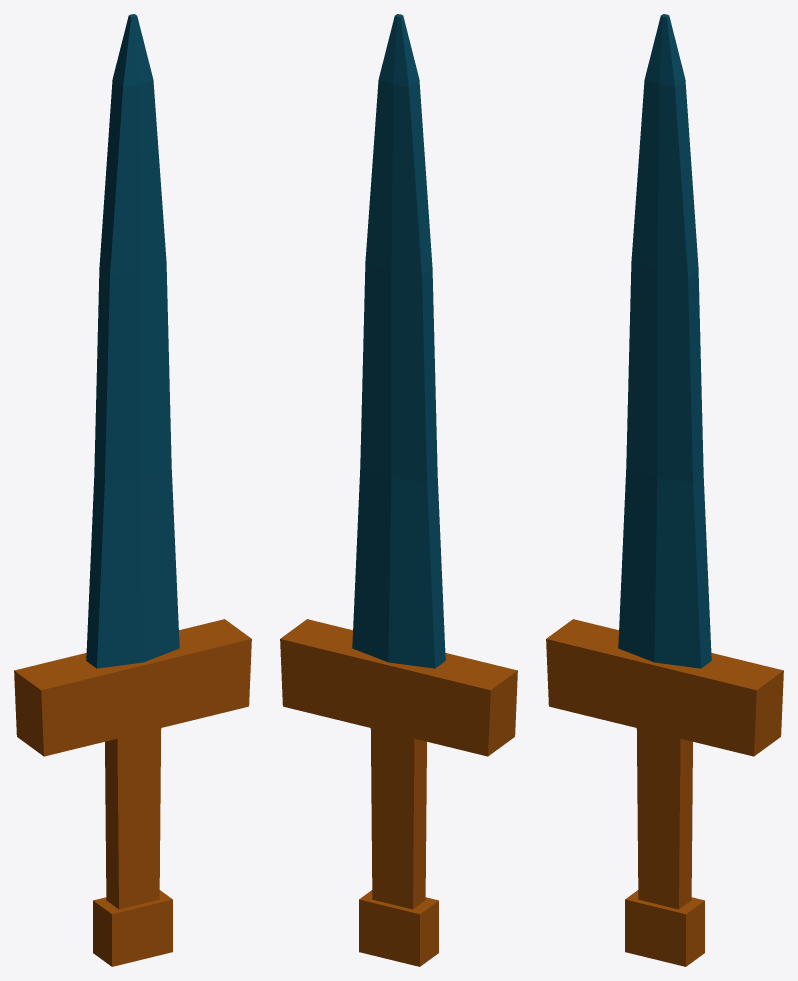
File: sword.fbx
3 renders of one model, left to right at view 1: azimuth 30°, elevation 25°; view 2: azimuth 150°, elevation 25°; view 3: azimuth 330°, elevation 25°, orthographic.
Visible parts, largest first — view 1: Cube.001, Cube; view 2: Cube.001, Cube; view 3: Cube.001, Cube.
Boxes of the visible parts, bbox=[...] form: Cube.001: bbox=[86, 14, 179, 668]; Cube: bbox=[14, 619, 251, 966]; Cube.001: bbox=[352, 14, 445, 668]; Cube: bbox=[280, 619, 517, 966]; Cube.001: bbox=[618, 14, 711, 668]; Cube: bbox=[546, 619, 783, 966].
Bounding box in the file's own units: 223 × 949 × 49.75.
